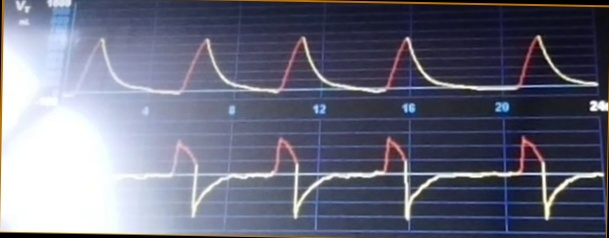Normal Flow: (120, 131, 602, 220)
Normal Volume: (69, 28, 597, 97)
